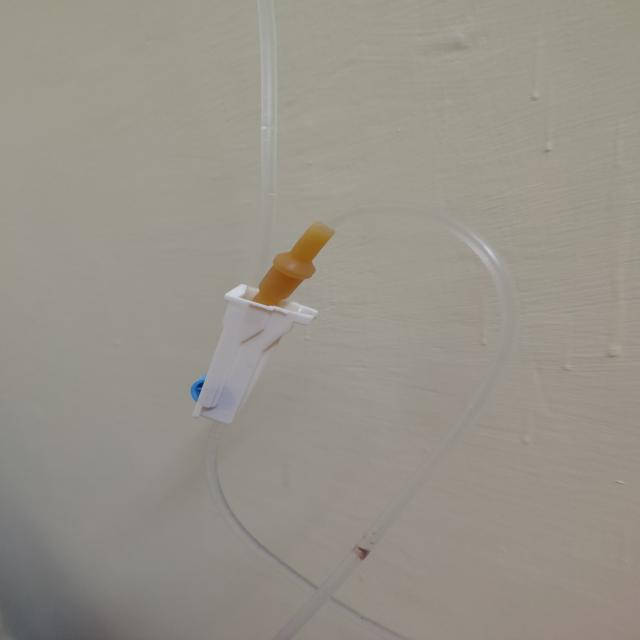B3: (186, 198, 523, 640)
